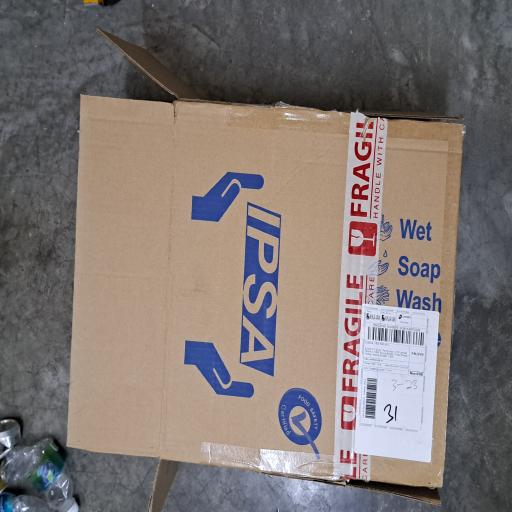can: (16, 0, 71, 28)
cardboard: (0, 87, 365, 512)
plastic bottle: (0, 7, 57, 99), (0, 0, 15, 77)
plastic bottle cap: (0, 88, 7, 105)
